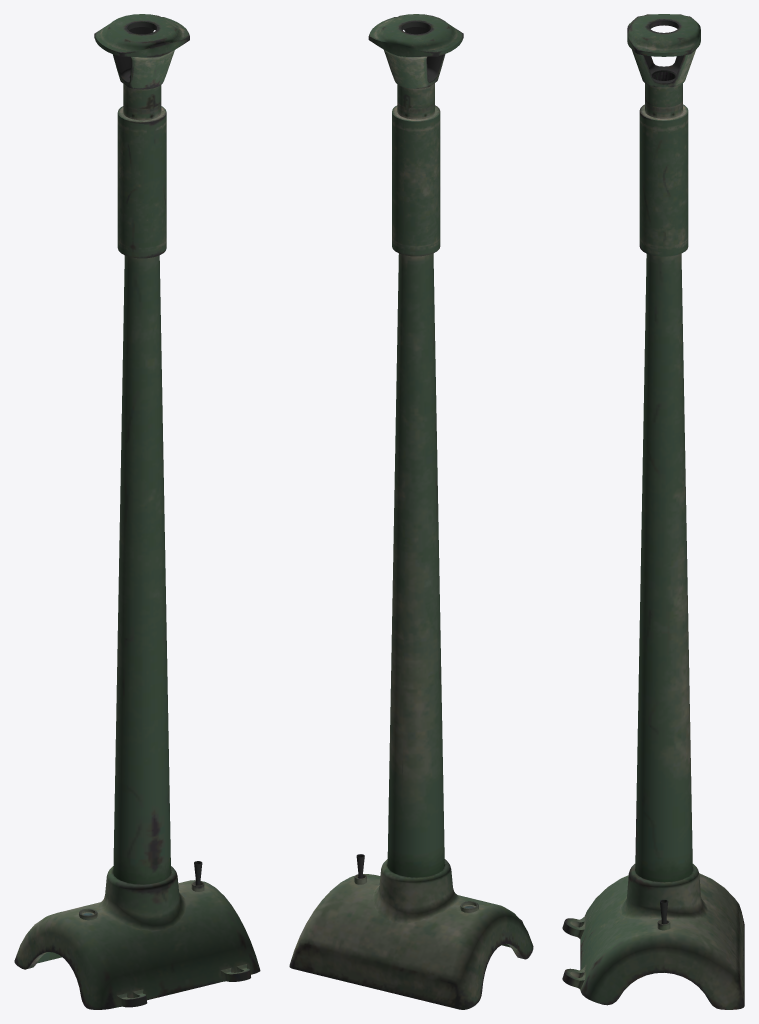
Rendered from Gun_02.glb.
The picture shows the model from 3 angles, left to right: view 1: azimuth 30°, elevation 25°; view 2: azimuth 150°, elevation 25°; view 3: azimuth 270°, elevation 25°; orthographic projection.
Visible parts, largest first — view 1: set_0_group_0; view 2: set_0_group_0; view 3: set_0_group_0.
Boxes of the visible parts, x1,y1,x2,y2 form: set_0_group_0: [14, 14, 260, 1009]; set_0_group_0: [289, 14, 533, 1009]; set_0_group_0: [562, 14, 744, 1009].
Size of the model in its own units: 0.9184 by 4.5 by 0.7913.
Materials: 1 (1 with a texture image).
